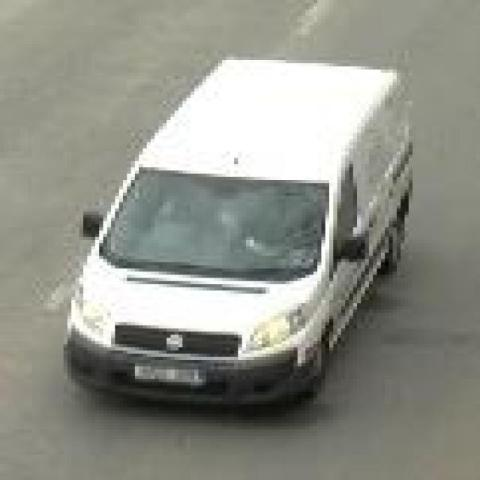van: (70, 56, 415, 422)
